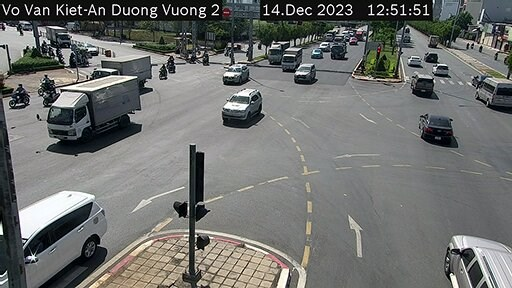car: (1, 190, 114, 276), (443, 225, 512, 288), (221, 81, 265, 124), (475, 66, 511, 117), (417, 112, 458, 143), (221, 60, 247, 88), (412, 73, 437, 97), (296, 62, 319, 88), (426, 49, 447, 68), (431, 61, 449, 77), (407, 51, 420, 70)
truck: (45, 80, 143, 144), (95, 54, 160, 95), (275, 47, 309, 80), (262, 40, 287, 75)
